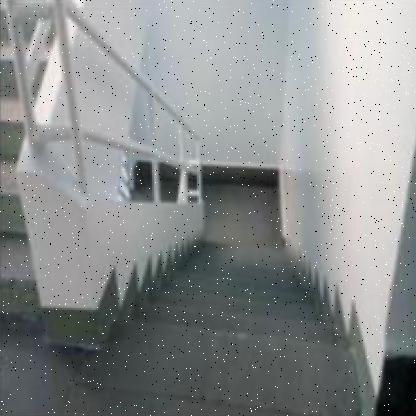stair_down: (131, 231, 350, 353)
